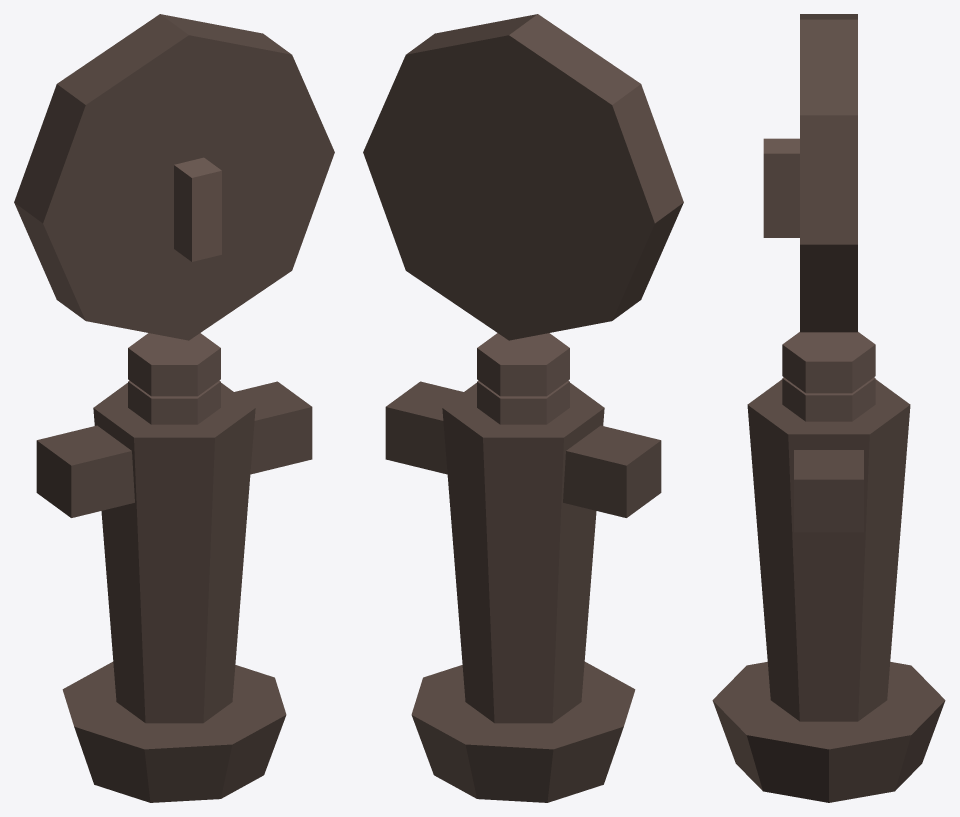
File: sculpture-25.glb
3 views of the same model, side by side, from view 1: azimuth 30°, elevation 25°; view 2: azimuth 150°, elevation 25°; view 3: azimuth 270°, elevation 25° (orthographic).
Parts seen in each view (by area): view 1: sculpture_25; view 2: sculpture_25; view 3: sculpture_25.
Boxes of the visible parts, left/top/right/bottom form: sculpture_25: left=14, top=14, right=334, bottom=802; sculpture_25: left=363, top=14, right=683, bottom=802; sculpture_25: left=712, top=14, right=945, bottom=802.
Size of the model in its own units: 0.1988 by 0.482 by 0.1368.
